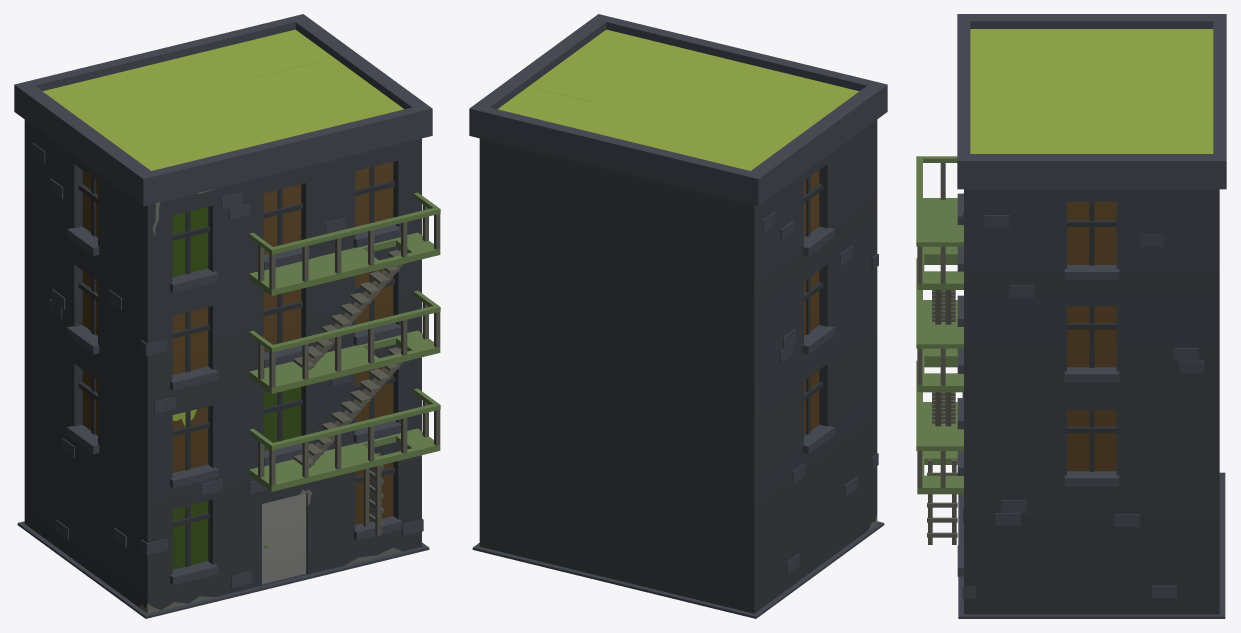
Rendered from OldHouse_08.fbx.
3 views of the same model, side by side, from view 1: azimuth 30°, elevation 25°; view 2: azimuth 150°, elevation 25°; view 3: azimuth 270°, elevation 25° (orthographic). The views are drawn at different scales.
Parts seen in each view (by area): view 1: OldHouse_08; view 2: OldHouse_08; view 3: OldHouse_08.
Boxes of the visible parts, box(x1,y1,x2,y2) form: OldHouse_08: box(14, 14, 440, 618); OldHouse_08: box(469, 14, 887, 618); OldHouse_08: box(916, 14, 1226, 618).
Size of the model in its own units: 7.14 by 10.41 by 6.37.
